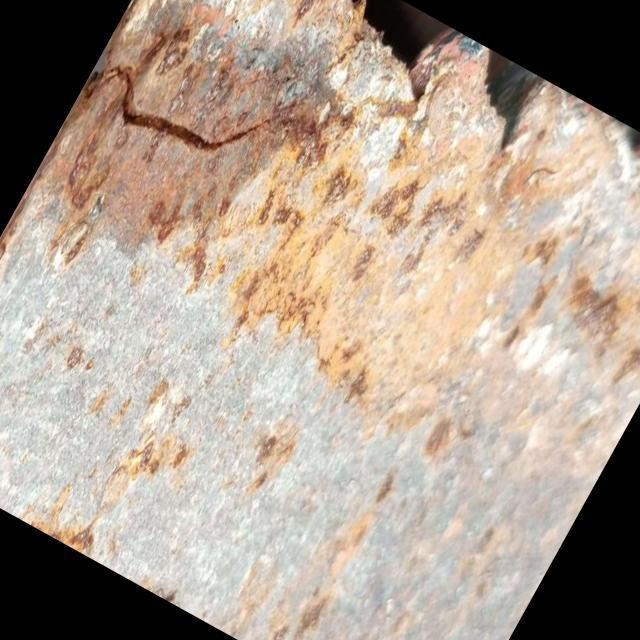defect: (107, 55, 325, 164)
